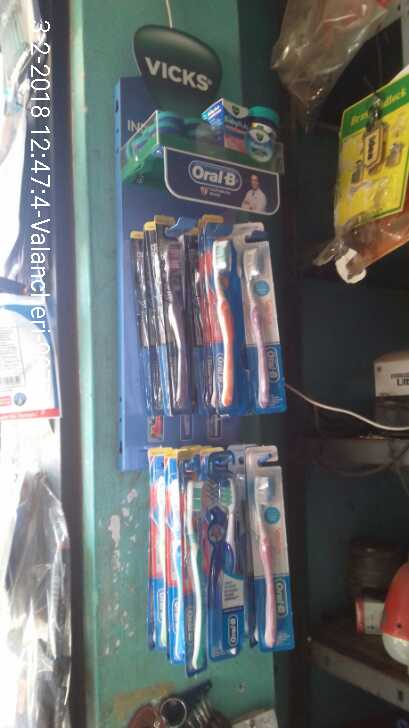oralb: (236, 234, 285, 427), (151, 212, 193, 411), (249, 451, 290, 651), (206, 458, 242, 665), (210, 222, 245, 424), (180, 455, 210, 675)
